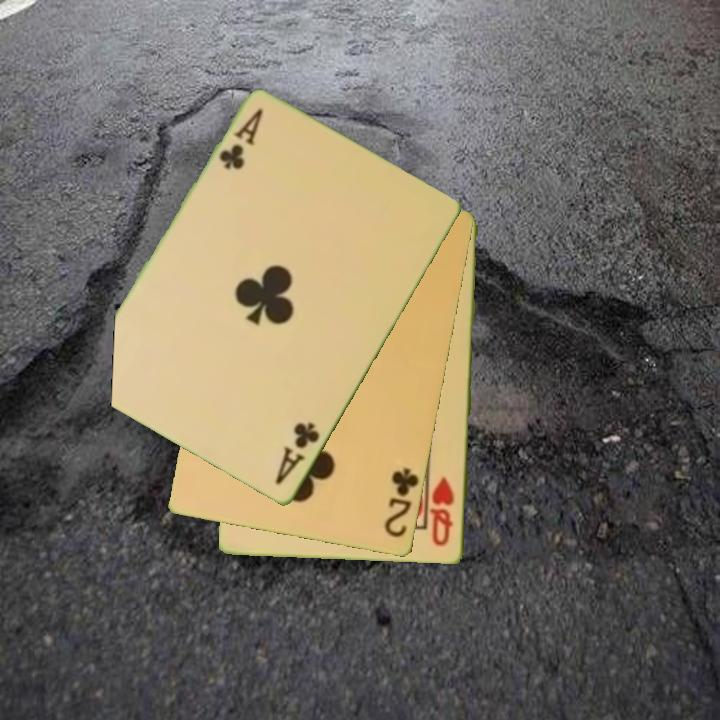2c: (381, 464, 422, 541)
Ac: (271, 419, 323, 489), (215, 105, 267, 174)
Qh: (429, 474, 457, 550)
